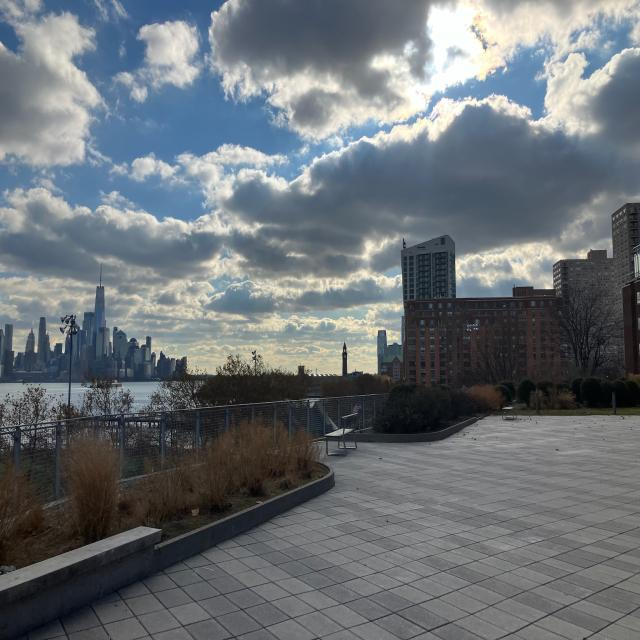WTC: (94, 262, 105, 332)
